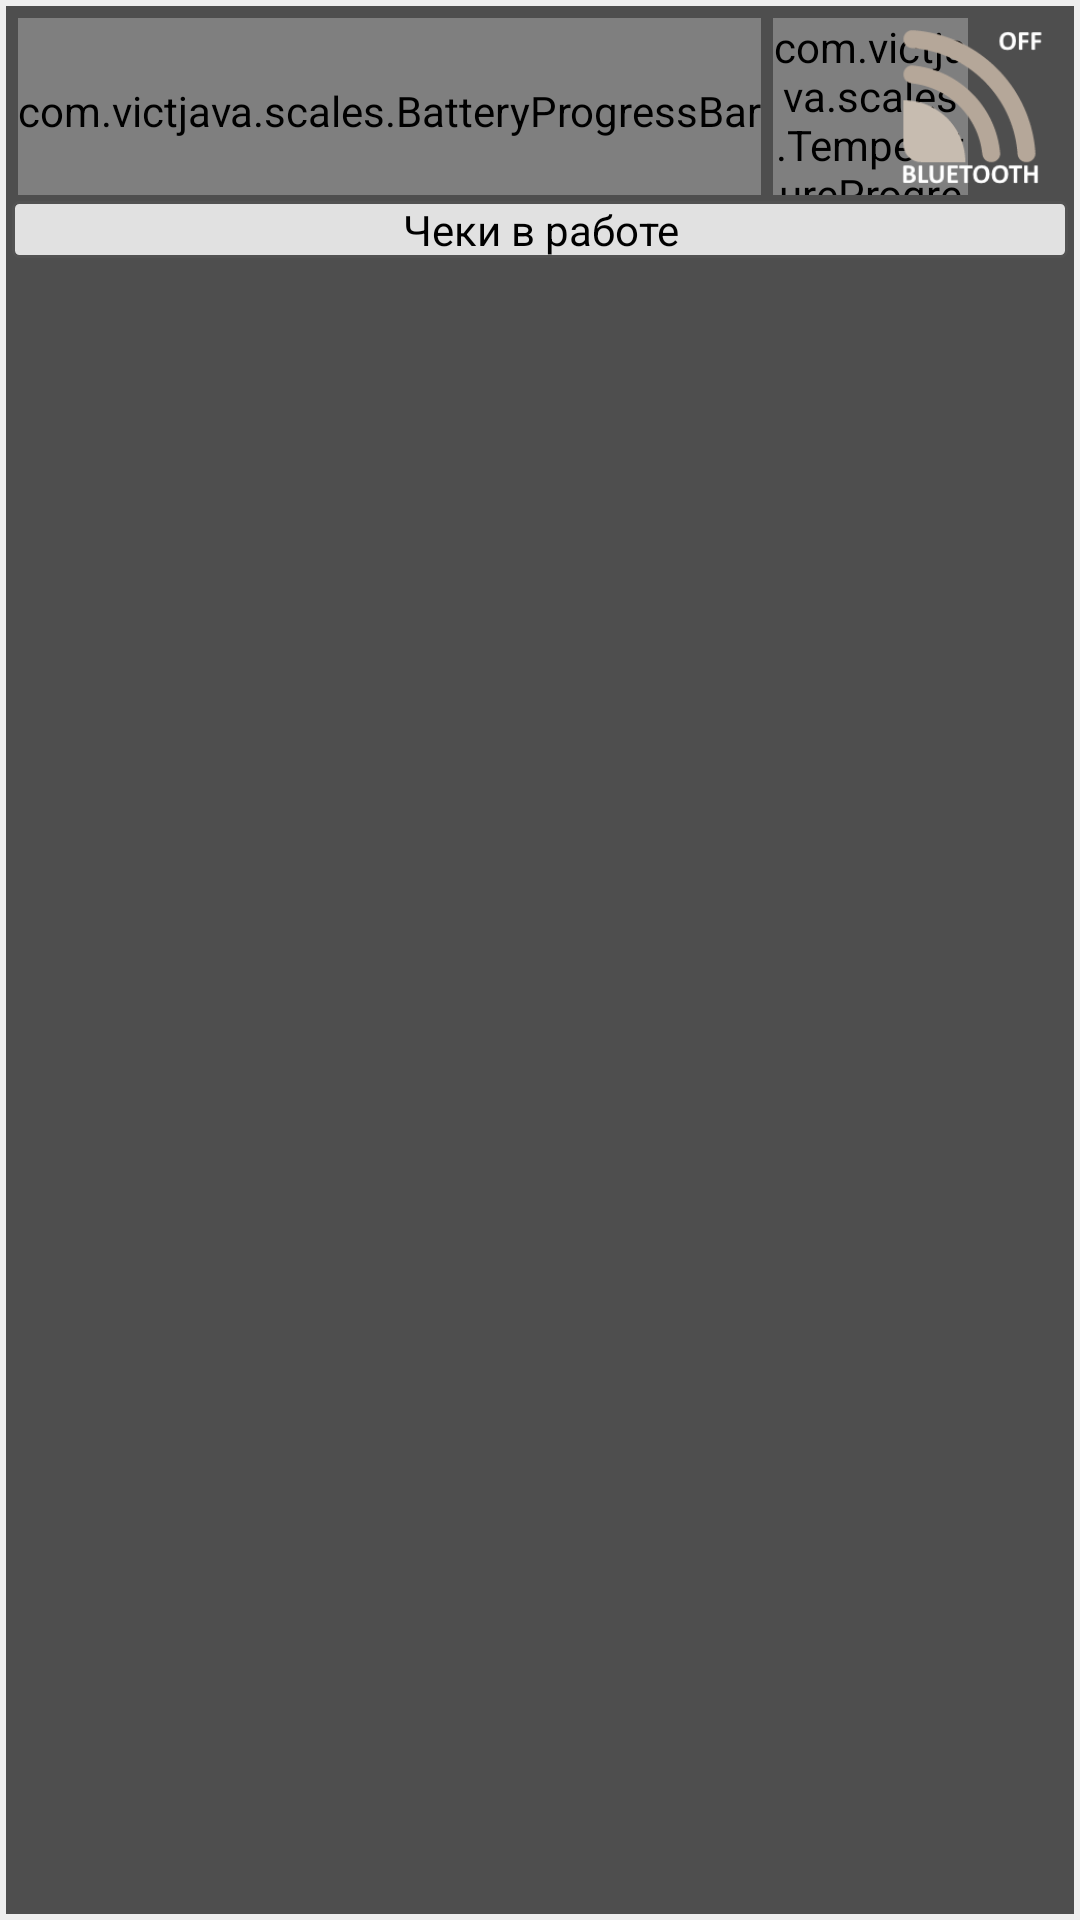

Named icons in this screenshot (1080px x 1920px) and their bounding boxes, detection(x1, y1, x2, y2):
Индикатор связи: detection(873, 18, 1042, 195)
